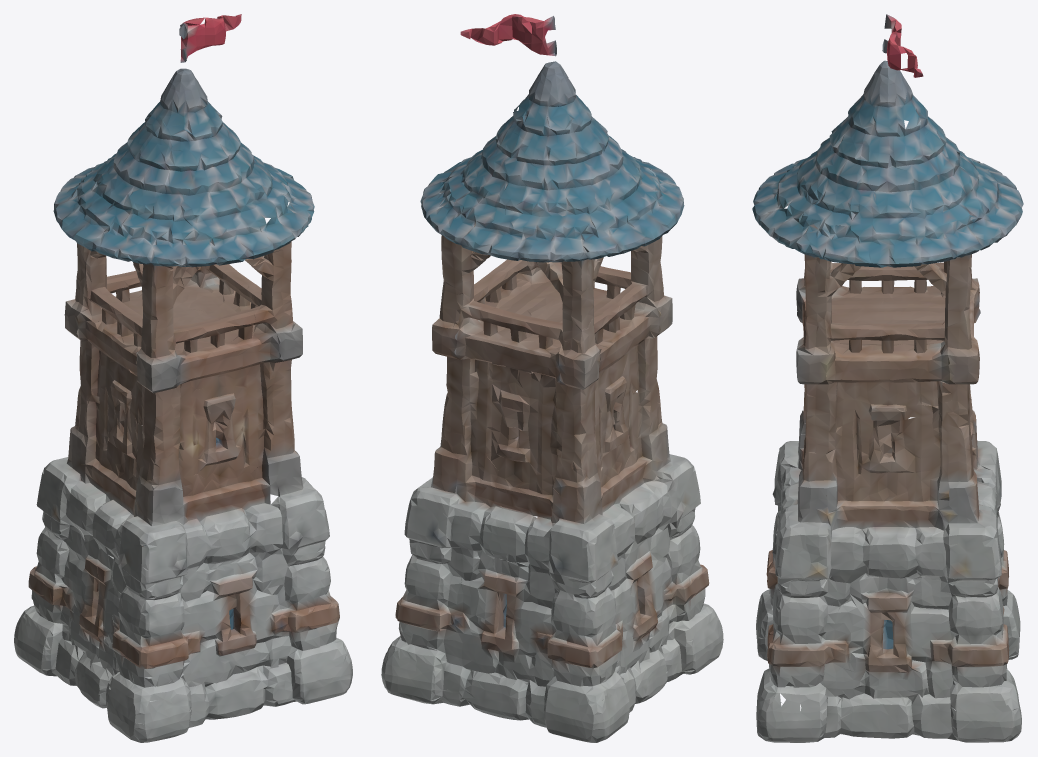
Rendered from building_watchtower_lod1.glb.
3 renders of one model, left to right at view 1: azimuth 30°, elevation 25°; view 2: azimuth 150°, elevation 25°; view 3: azimuth 270°, elevation 25°, orthographic. The views are drawn at different scales.
Parts seen in each view (by area): view 1: world; view 2: world; view 3: world.
Boxes of the visible parts, x1,y1,x2,y2 form: world: (14, 14, 352, 742); world: (381, 14, 723, 742); world: (752, 14, 1023, 742).
Bounding box in the file's own units: 0.6895 × 1.9 × 0.6904.
